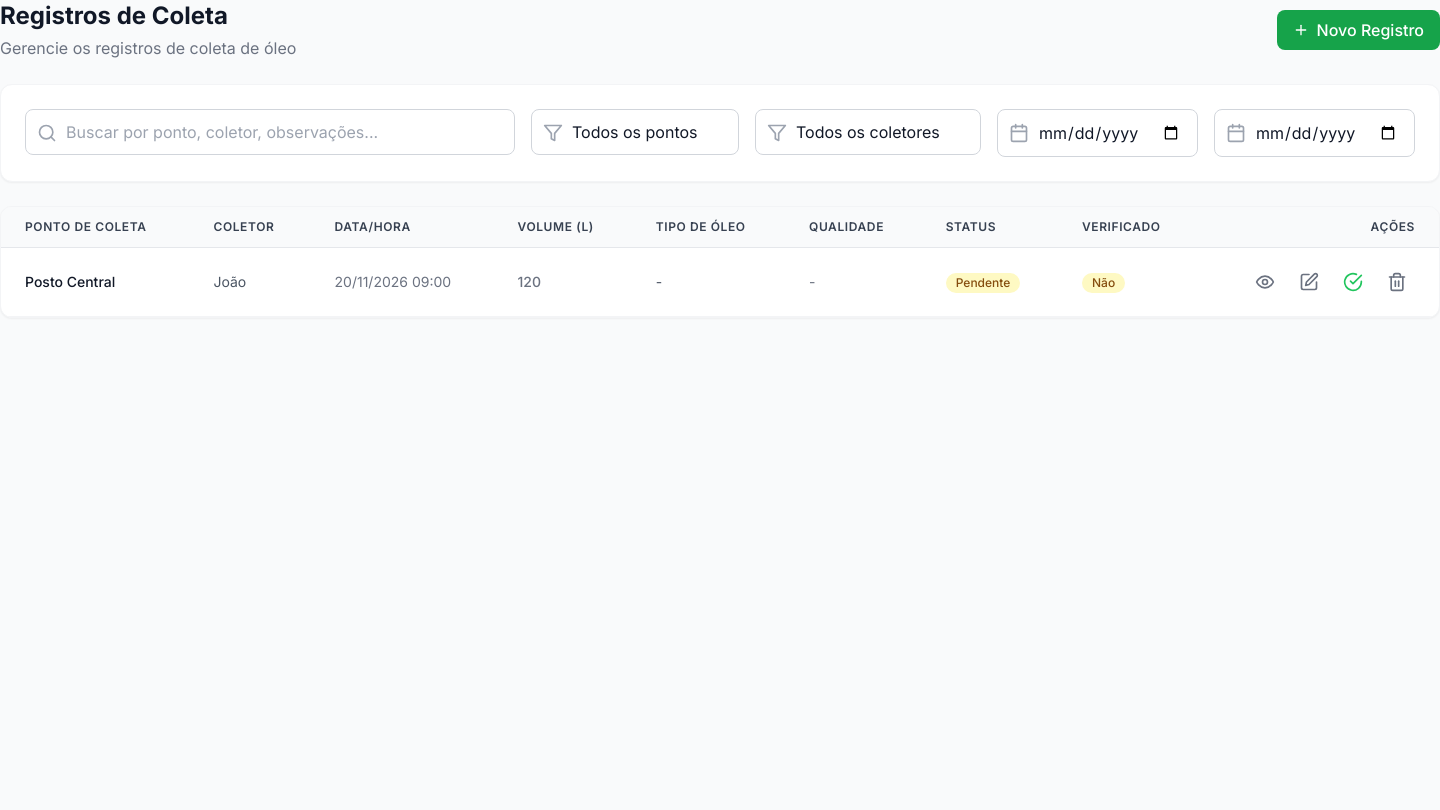
RecordsPage › opens the create record modal
The image size is (1440, 810).
Click the button "Novo Registro" at (1358, 30), box [1277,10,1439,50]
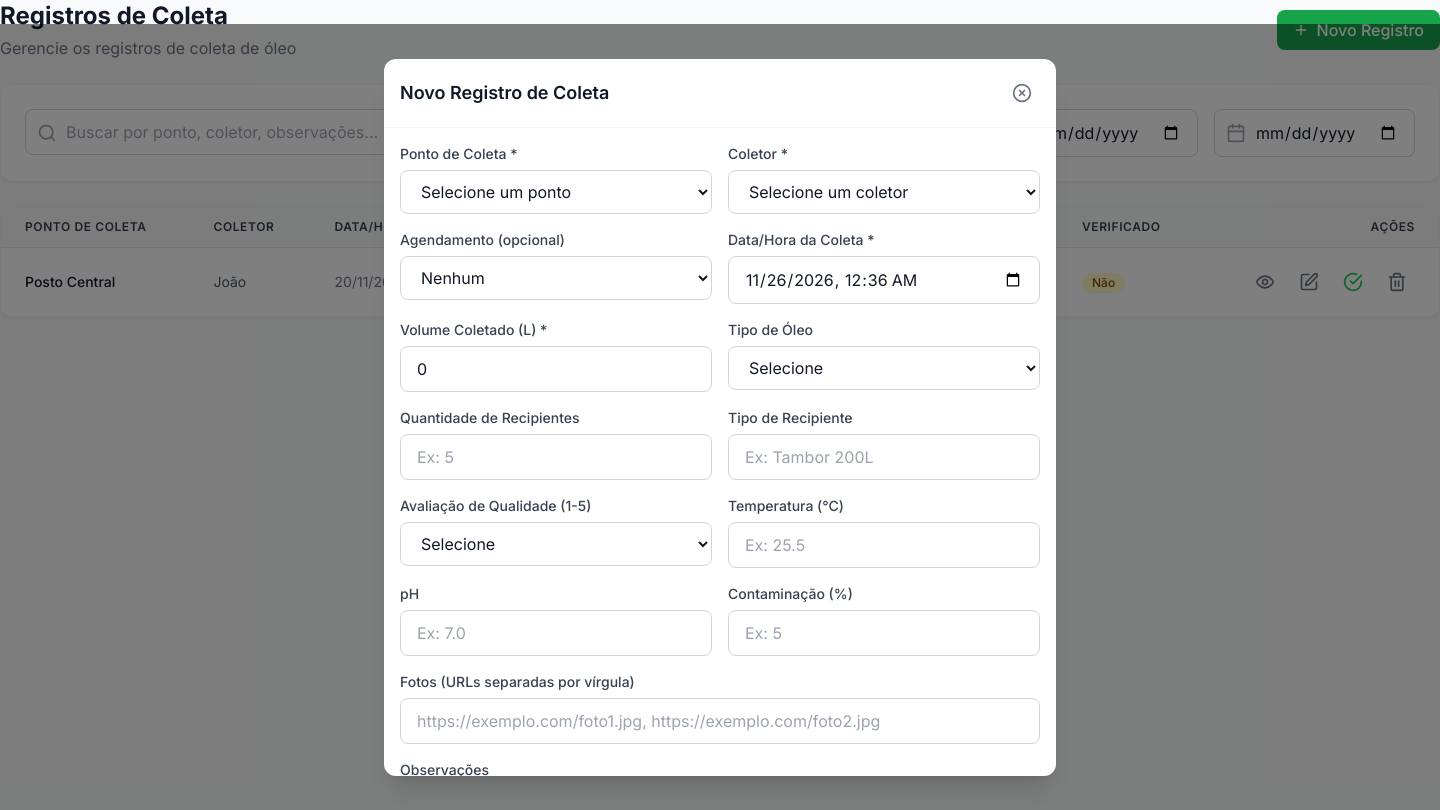
expect the heading "Novo Registro de Coleta" is shown: met, box [400,78,609,106]
